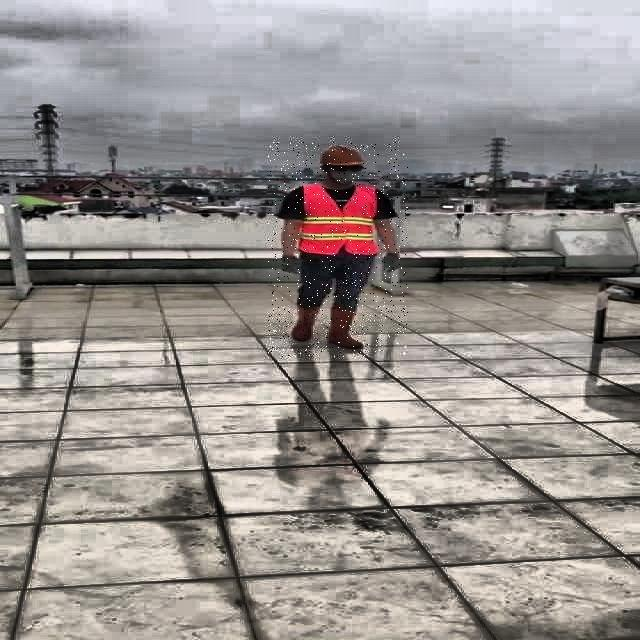safety_helmet: (316, 144, 368, 168)
safety_jacket: (300, 184, 380, 254)
